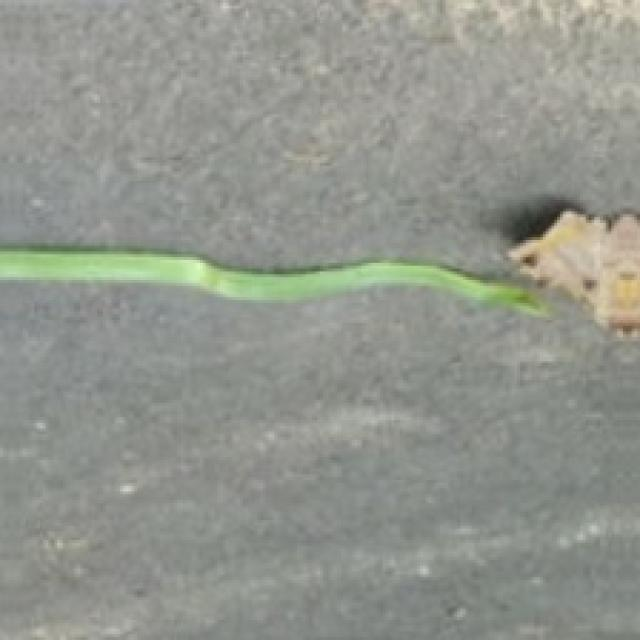red-tailed green ratsnake: (0, 249, 546, 311)
